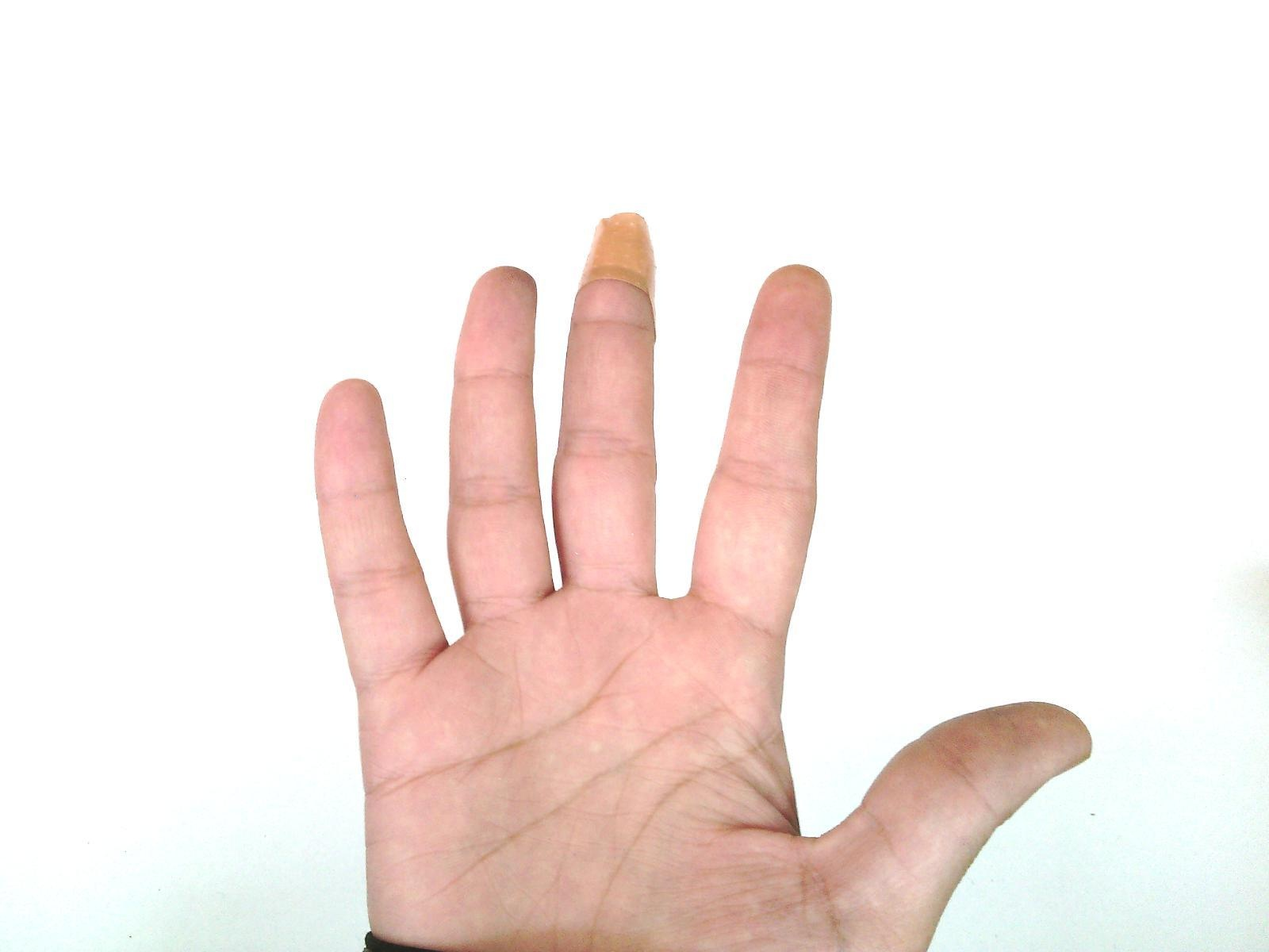open_palm: (309, 211, 1095, 952)
